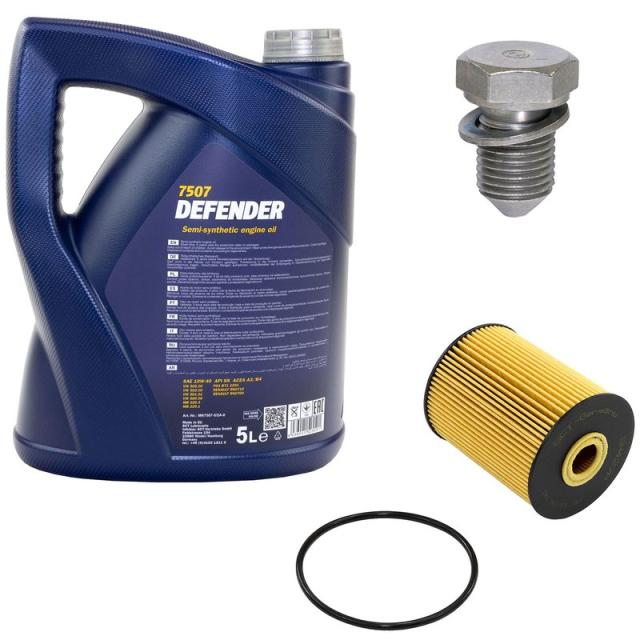motor_oil: (0, 15, 363, 490)
oil_filter: (418, 314, 639, 524)
